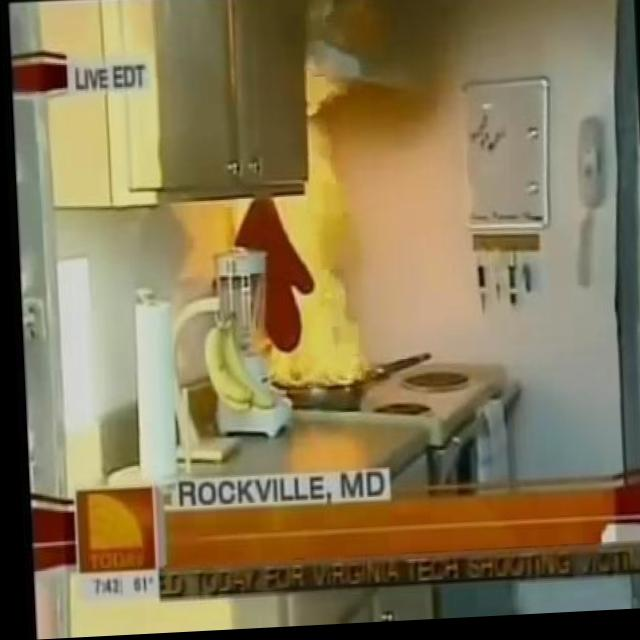fire: (227, 68, 374, 394)
